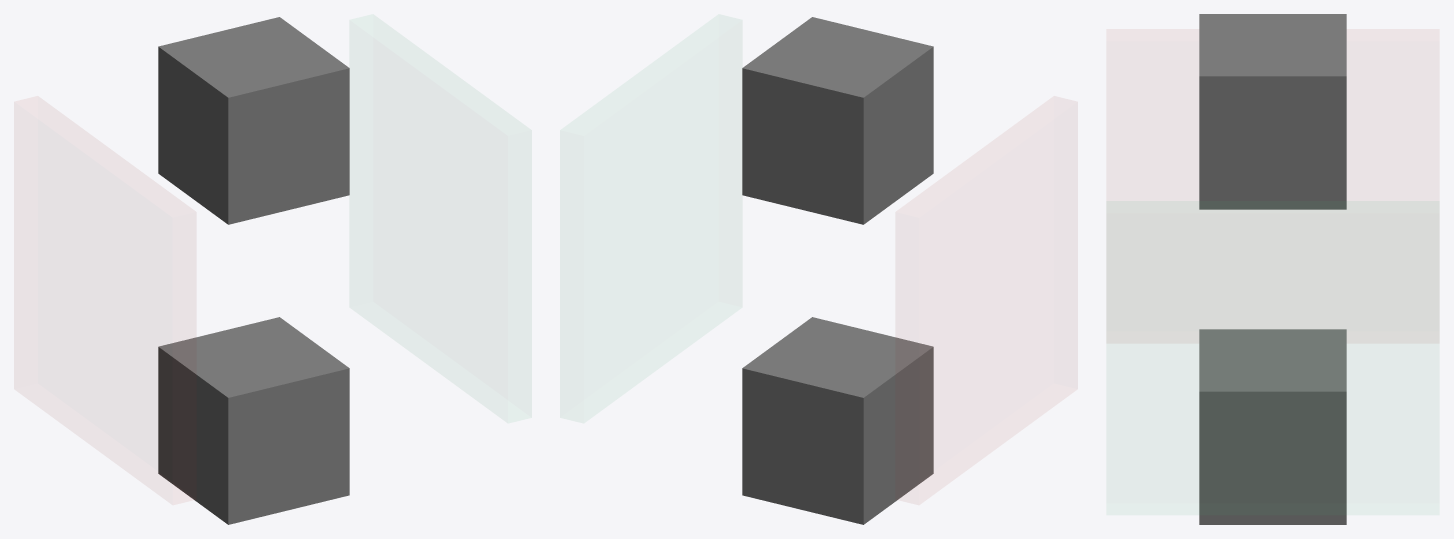
Rendered from translucent.glb.
The picture shows the model from 3 angles, left to right: view 1: azimuth 30°, elevation 25°; view 2: azimuth 150°, elevation 25°; view 3: azimuth 270°, elevation 25°; orthographic projection. The views are drawn at different scales.
Visible parts, largest first — view 1: Cube.003, Cube.002; view 2: Cube.003, Cube.002; view 3: Cube.002, Cube.003.
Part boxes in pixels (bbox=[...]): Cube.003: bbox=[158, 17, 349, 224]; Cube.002: bbox=[158, 317, 349, 524]; Cube.003: bbox=[742, 17, 933, 224]; Cube.002: bbox=[742, 317, 933, 524]; Cube.002: bbox=[1199, 329, 1346, 524]; Cube.003: bbox=[1199, 14, 1346, 209].
Size of the model in its own units: 2.61 by 2.97 by 2.
